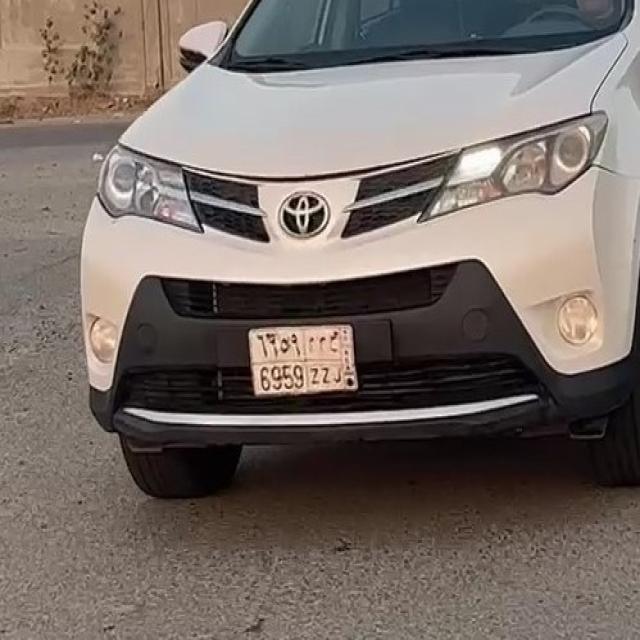Car-plate: (235, 315, 363, 404)
